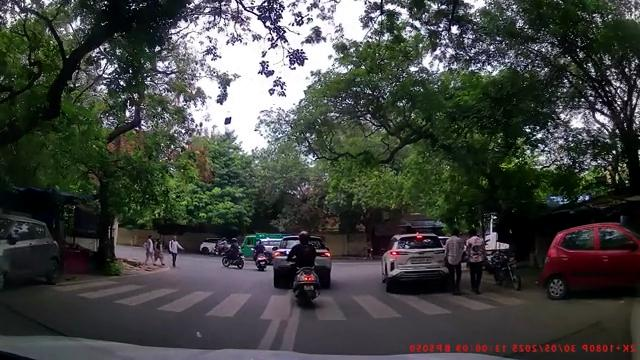motorcycle_with_helmet: (287, 230, 321, 304)
